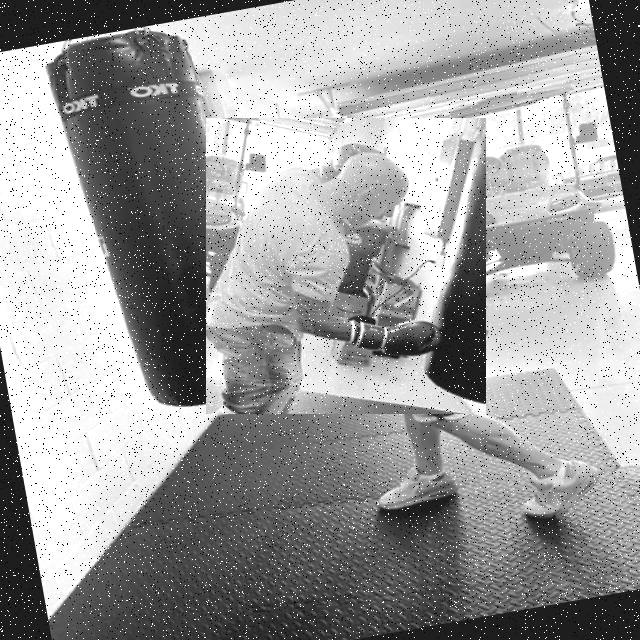punch: (206, 118, 486, 414)
